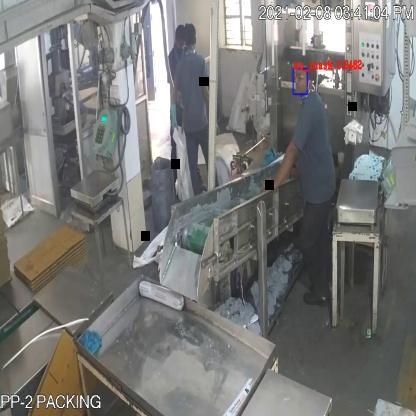no_glove: (262, 140, 300, 193)
